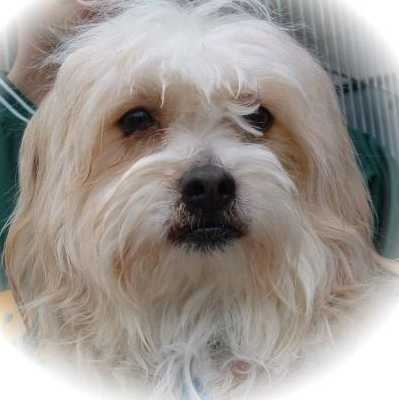Dog: (4, 0, 357, 380)
